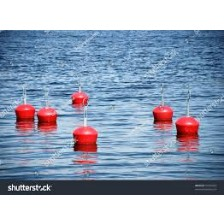buoy: (72, 126, 97, 144), (175, 116, 199, 133), (152, 104, 172, 122), (15, 104, 35, 120), (38, 108, 56, 124), (72, 92, 88, 106)
